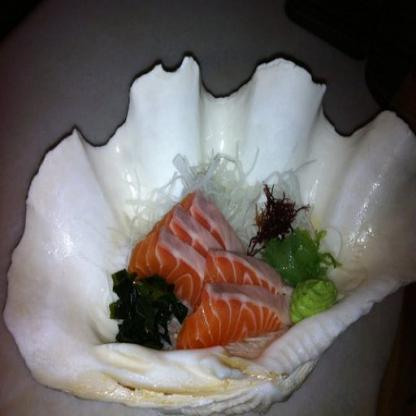salmon: (175, 283, 291, 349), (128, 227, 208, 306), (157, 192, 242, 259), (200, 248, 287, 303)
